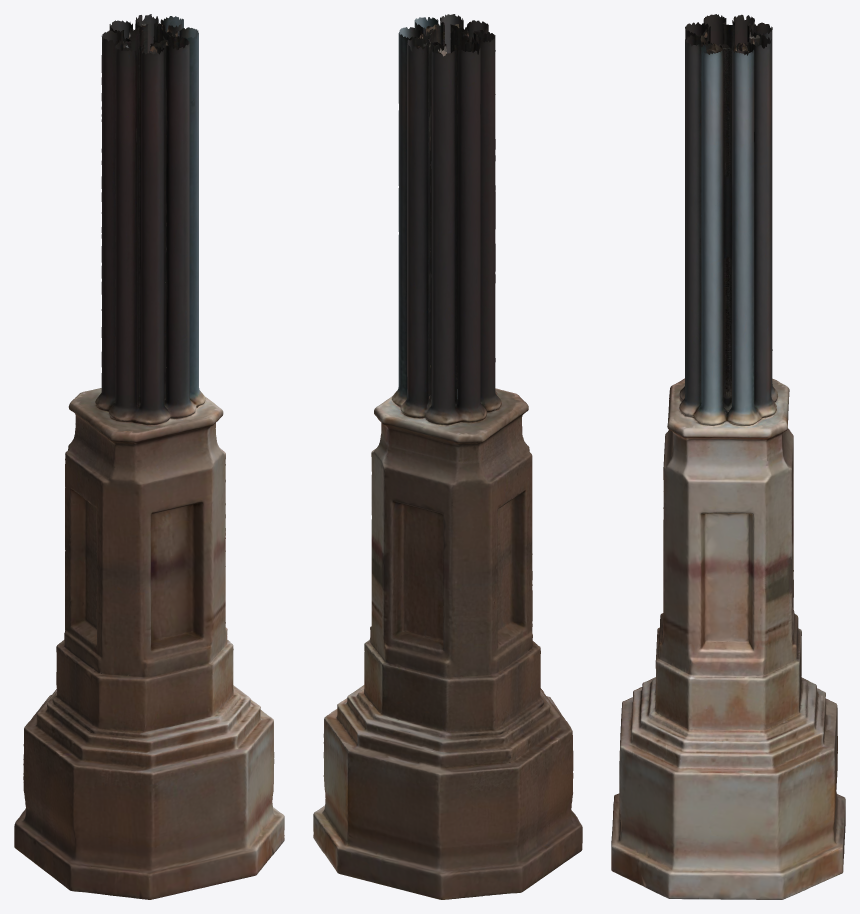
The model's file is pillar_cut.fbx.
3 views of the same model, side by side, from view 1: azimuth 30°, elevation 25°; view 2: azimuth 150°, elevation 25°; view 3: azimuth 270°, elevation 25° (orthographic).
Visible parts, largest first — view 1: pillar.002; view 2: pillar.002; view 3: pillar.002.
Boxes of the visible parts, x1,y1,x2,y2 form: pillar.002: [14, 14, 284, 899]; pillar.002: [313, 14, 582, 899]; pillar.002: [611, 14, 845, 899].
Size of the model in its own units: 77.62 by 280 by 73.07.
1 material, 1 textured.
